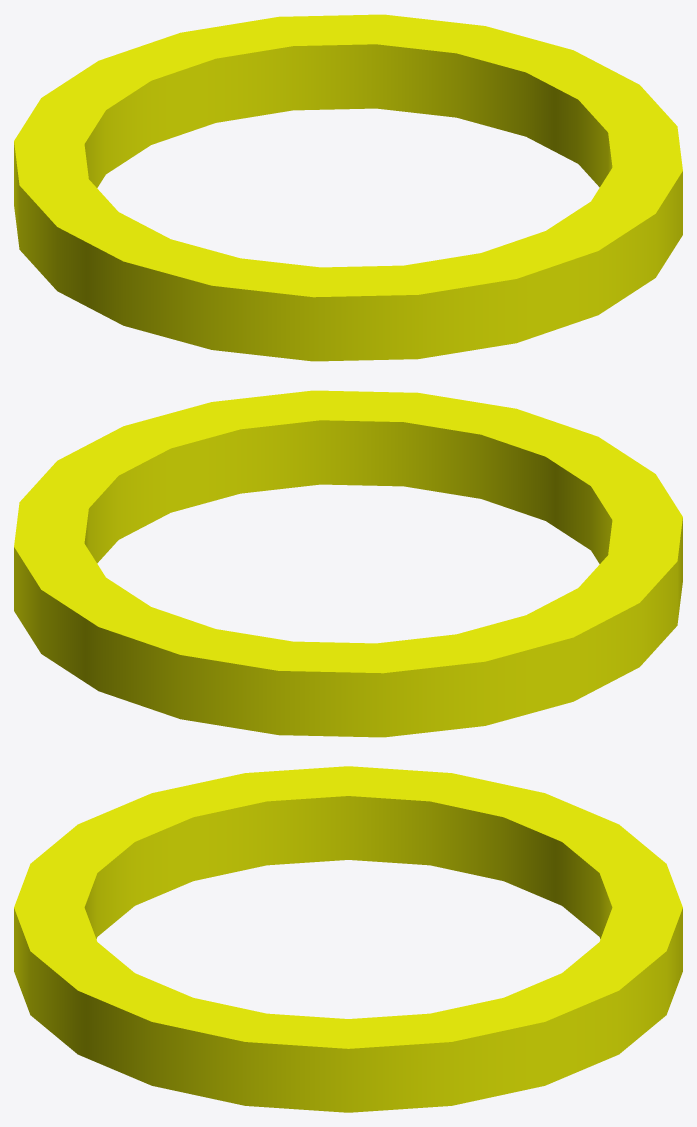
File: giro1.glb
3 views of the same model, one above another, from view 1: azimuth 30°, elevation 25°; view 2: azimuth 150°, elevation 25°; view 3: azimuth 270°, elevation 25° (orthographic).
Bounding box in the file's own units: 8.74 × 0.9214 × 8.74.
